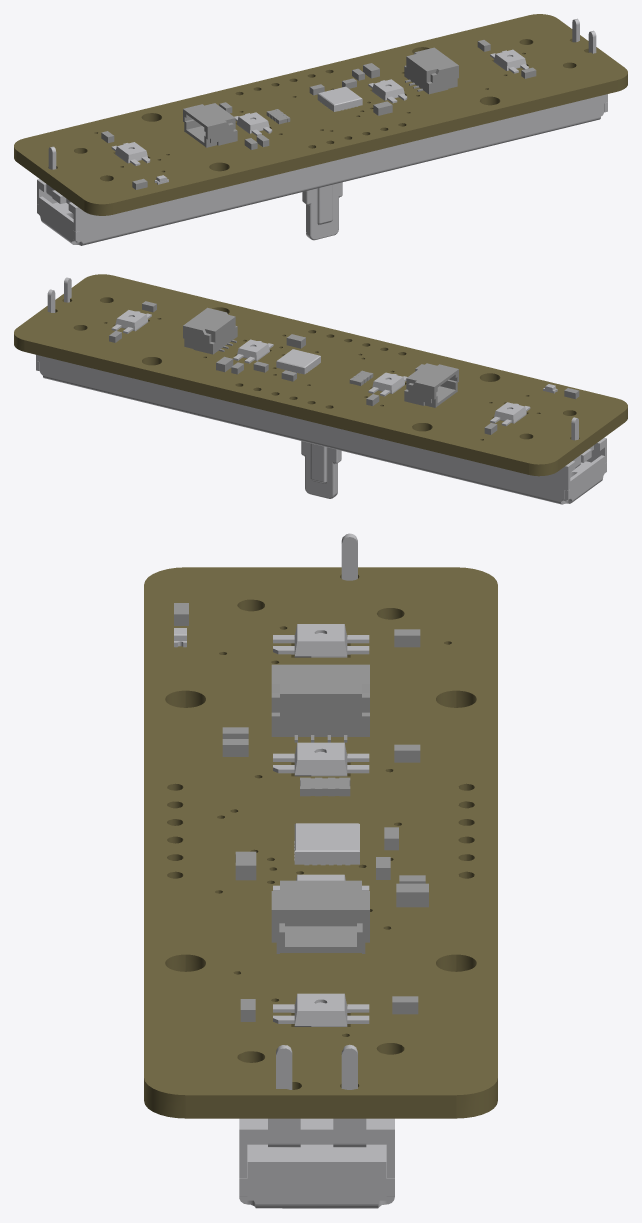
Rendered from ada-5295.glb.
The picture shows the model from 3 angles, top to bottom: view 1: azimuth 30°, elevation 25°; view 2: azimuth 150°, elevation 25°; view 3: azimuth 270°, elevation 25°; orthographic projection. The views are drawn at different scales.
Parts seen in each view (by area): view 1: 0.16666666666666666_0.16666666666666666_0.08333333333333333_, 0.5833333333333334_0.5833333333333334_0.5833333333333334_0.8, 0.3333333333333333_0.3333333333333333_0.3333333333333333_0; view 2: 0.16666666666666666_0.16666666666666666_0.08333333333333333_, 0.5833333333333334_0.5833333333333334_0.5833333333333334_0.8, 0.3333333333333333_0.3333333333333333_0.3333333333333333_0; view 3: 0.16666666666666666_0.16666666666666666_0.08333333333333333_, 0.5833333333333334_0.5833333333333334_0.5833333333333334_0.8, 0.3333333333333333_0.3333333333333333_0.3333333333333333_0.
Boxes of the visible parts, x1,y1,x2,y2 form: 0.16666666666666666_0.16666666666666666_0.08333333333333333_: (14, 14, 627, 215); 0.5833333333333334_0.5833333333333334_0.5833333333333334_0.8: (37, 18, 607, 245); 0.3333333333333333_0.3333333333333333_0.3333333333333333_0: (101, 40, 536, 189); 0.16666666666666666_0.16666666666666666_0.08333333333333333_: (14, 274, 627, 476); 0.5833333333333334_0.5833333333333334_0.5833333333333334_0.8: (36, 277, 606, 504); 0.3333333333333333_0.3333333333333333_0.3333333333333333_0: (109, 301, 579, 434); 0.16666666666666666_0.16666666666666666_0.08333333333333333_: (144, 567, 497, 1118); 0.5833333333333334_0.5833333333333334_0.5833333333333334_0.8: (174, 533, 394, 1208); 0.3333333333333333_0.3333333333333333_0.3333333333333333_0: (174, 603, 428, 1021).
Bounding box in the file's own units: 7.62 × 2 × 2.16.
